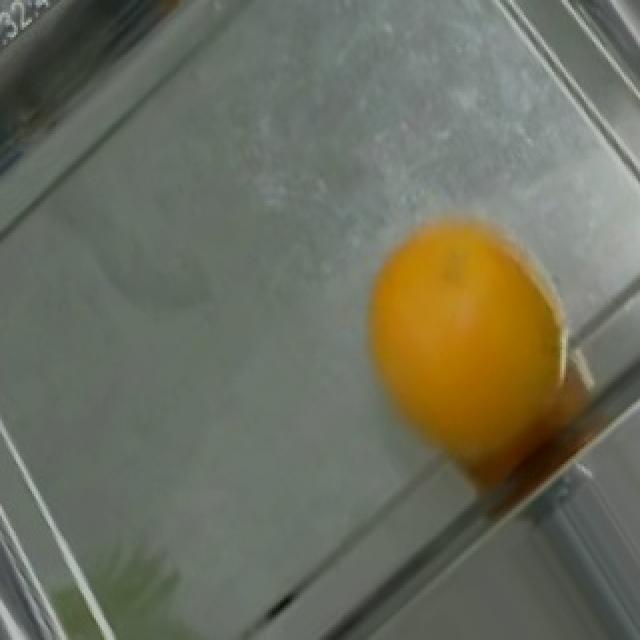Fruit: (346, 189, 600, 511)
